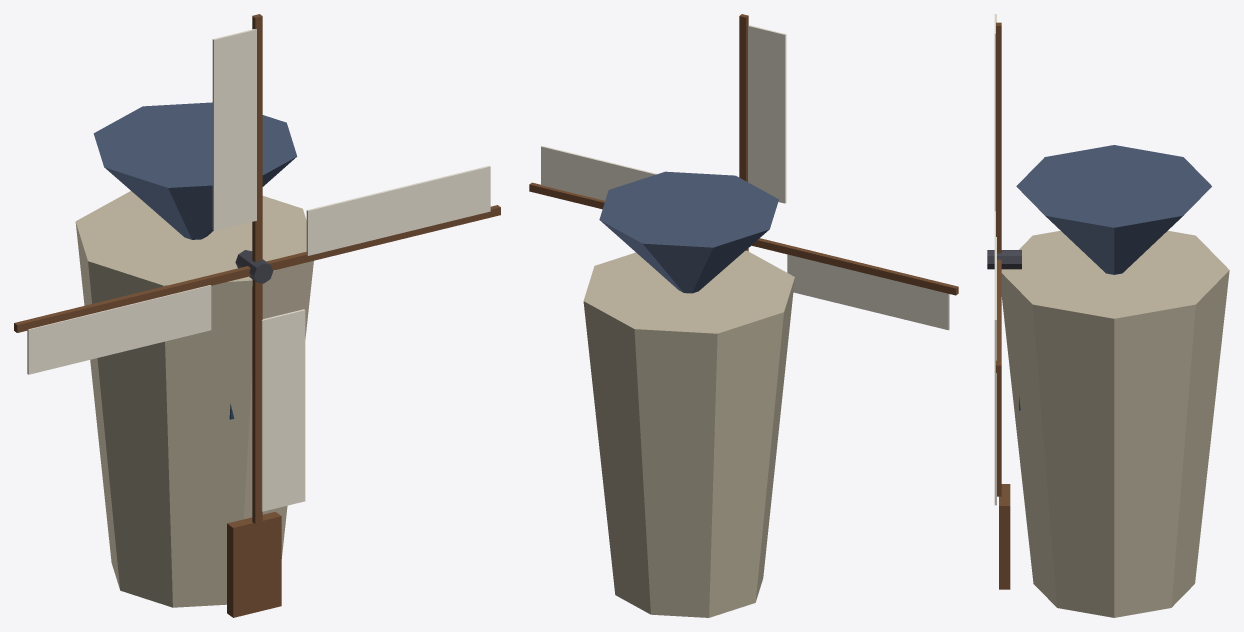
Rendered from windmill.glb.
3 views of the same model, side by side, from view 1: azimuth 30°, elevation 25°; view 2: azimuth 150°, elevation 25°; view 3: azimuth 270°, elevation 25° (orthographic). The views are drawn at different scales.
Parts seen in each view (by area): view 1: Tower, Cap, Sail3, Sail1, Sail0, Sail2, Door, SailArm2, SailArm3, SailArm0, SailArm1, Axle; view 2: Tower, Cap, Sail1, Sail2, Sail0, SailArm2, SailArm1, SailArm0; view 3: Tower, Cap, SailArm1, Door, SailArm3, Axle, SailArm0, Sail3, Sail1, Sail0.
Part boxes in pixels (x1,y1,x2,y2): Tower: [75, 191, 313, 607]; Cap: [93, 102, 297, 239]; Sail3: [261, 309, 305, 511]; Sail1: [212, 29, 256, 230]; Sail0: [306, 165, 490, 255]; Sail2: [27, 285, 211, 374]; Door: [227, 511, 281, 617]; SailArm2: [14, 266, 250, 332]; SailArm3: [252, 279, 262, 523]; SailArm0: [266, 205, 500, 270]; SailArm1: [252, 14, 262, 262]; Axle: [235, 250, 273, 283]; Tower: [583, 250, 794, 617]; Cap: [599, 171, 778, 293]; Sail1: [748, 25, 786, 203]; Sail2: [787, 254, 949, 330]; Sail0: [541, 146, 657, 200]; SailArm2: [751, 238, 958, 295]; SailArm1: [739, 14, 748, 181]; SailArm0: [529, 182, 604, 209]; Tower: [1001, 230, 1229, 617]; Cap: [1016, 145, 1211, 274]; SailArm1: [996, 22, 1001, 253]; Door: [999, 484, 1010, 589]; SailArm3: [997, 373, 1001, 496]; Axle: [987, 250, 1021, 269]; SailArm0: [996, 259, 1001, 372]; Sail3: [994, 362, 996, 505]; Sail1: [994, 14, 996, 211]; Sail0: [994, 237, 996, 361].
Bounding box in the file's own units: 9 × 10.7 × 4.2.
